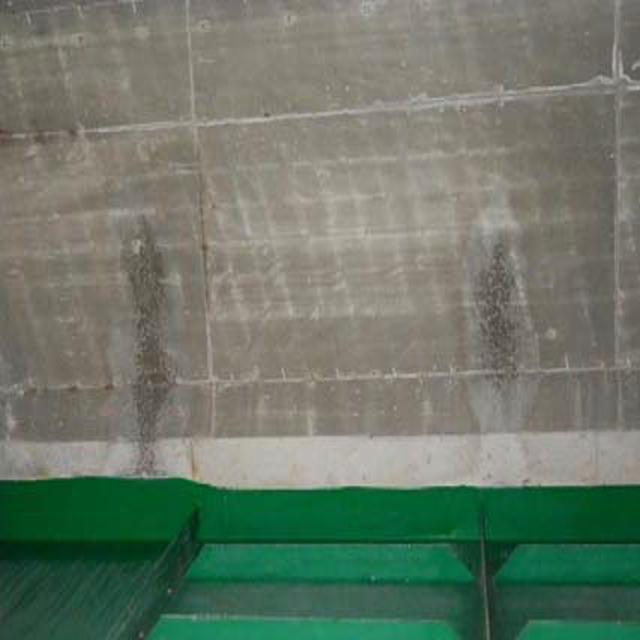leakage: (466, 222, 560, 494), (97, 225, 186, 484)
